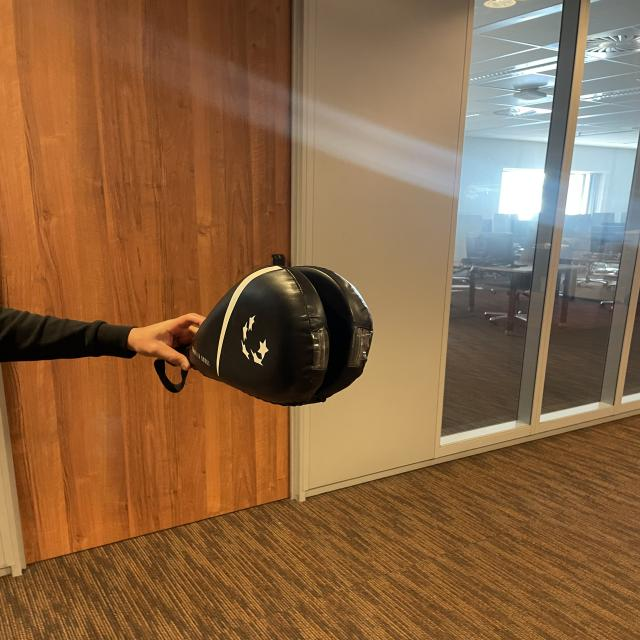paddle: (192, 268, 366, 392)
